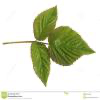Raspberry leaf: (48, 26, 97, 67), (30, 42, 52, 88), (33, 5, 58, 42)
